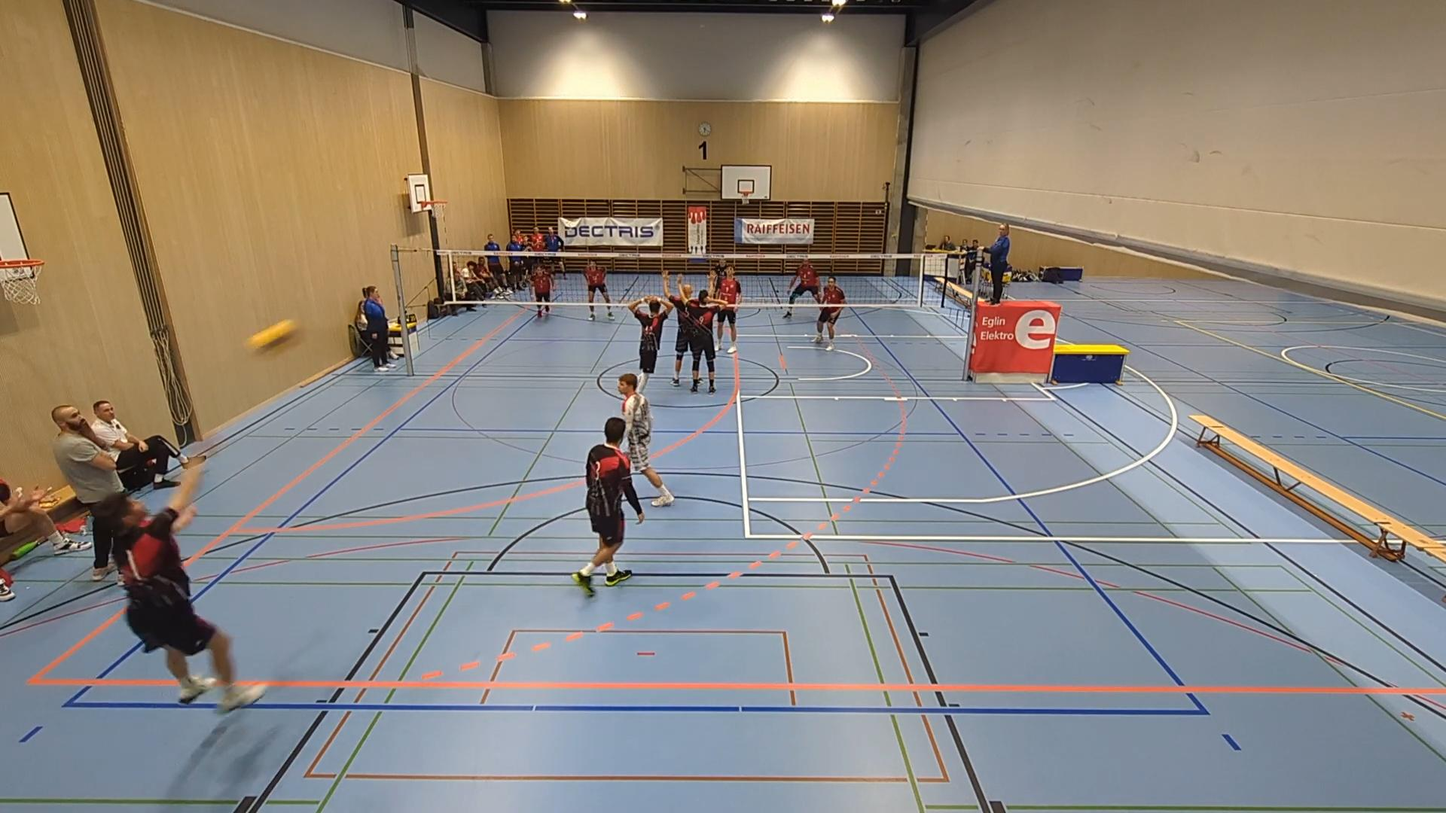battuta: (98, 435, 270, 713)
